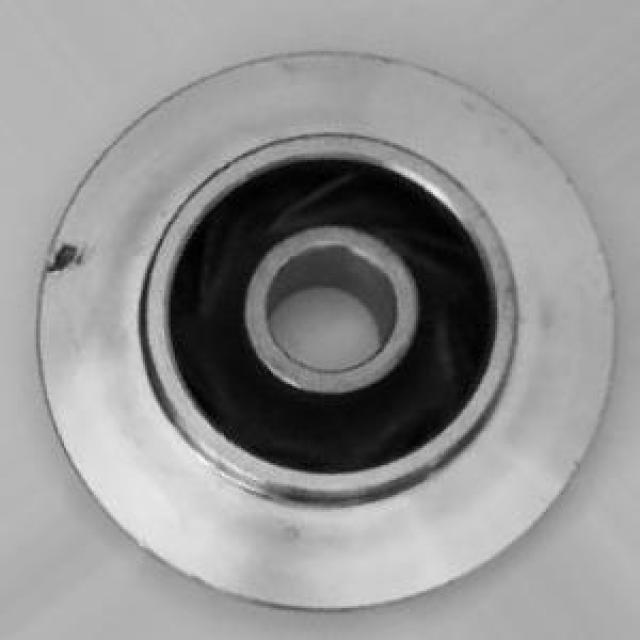Defect: (45, 240, 96, 292)
